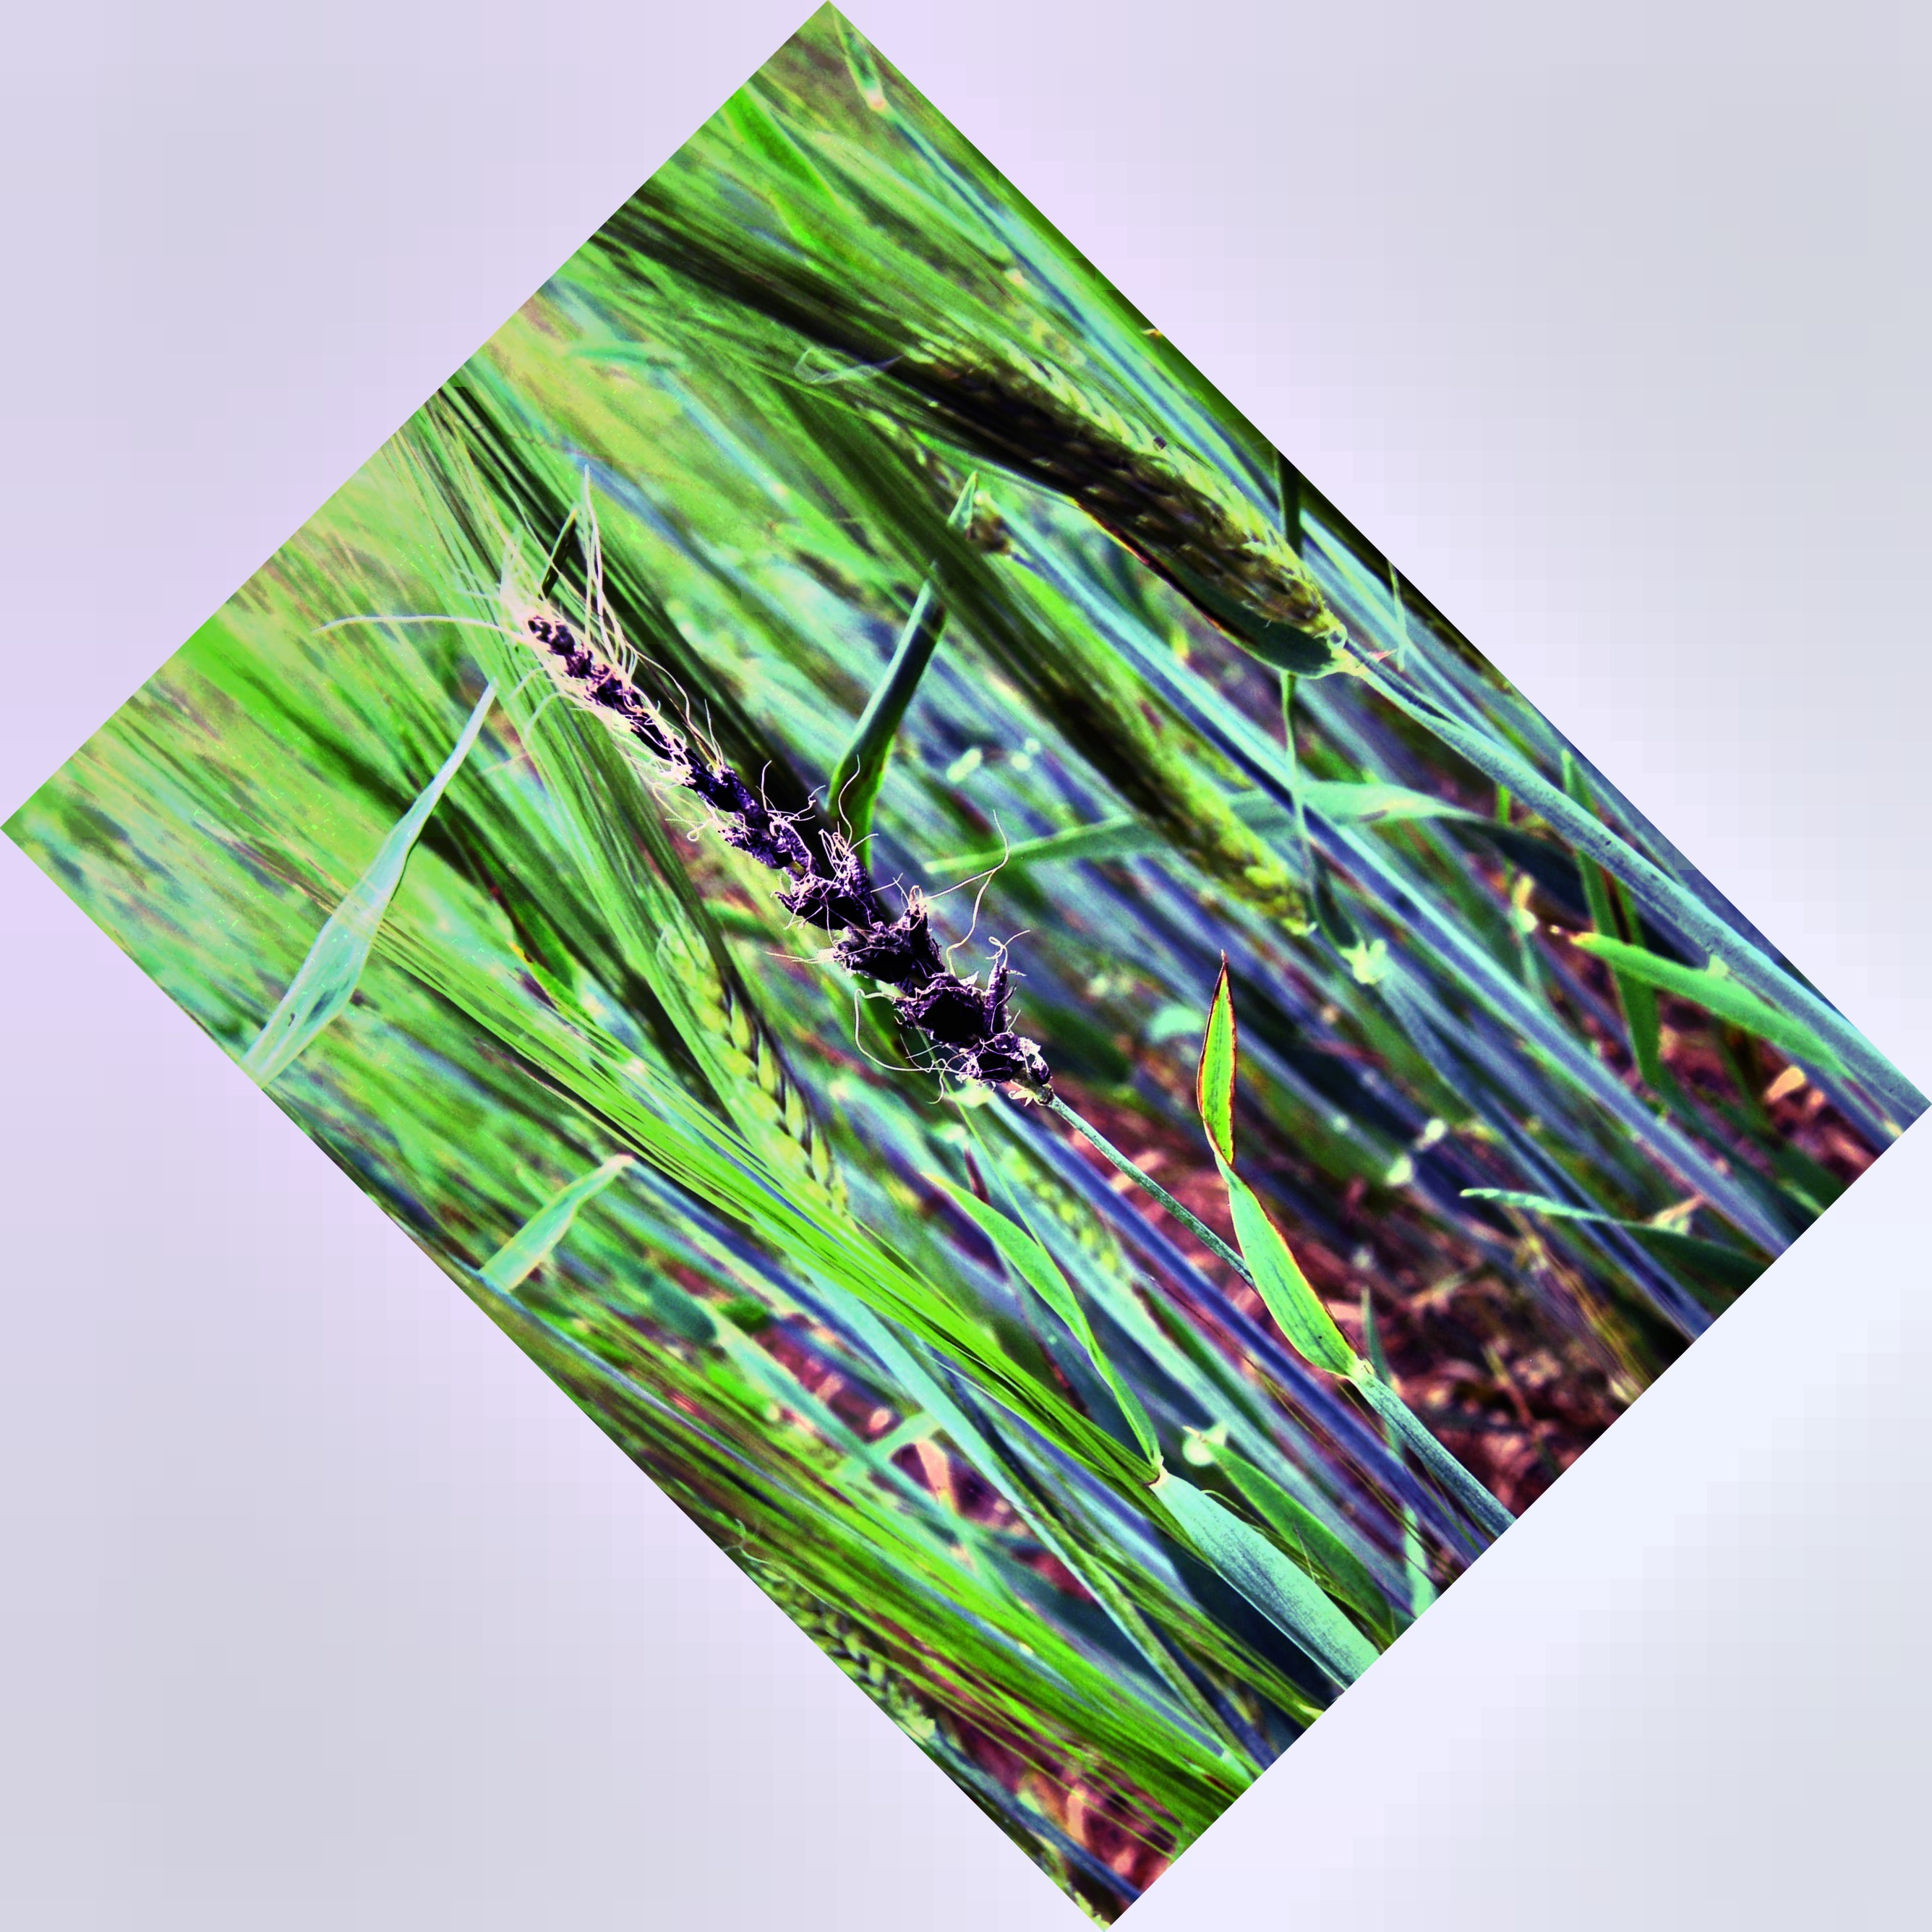Wheat Loose Smut: (593, 674, 1031, 1077)
